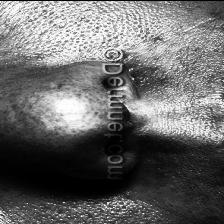Non-Cancerous Skin Condition: (133, 53, 193, 120)
